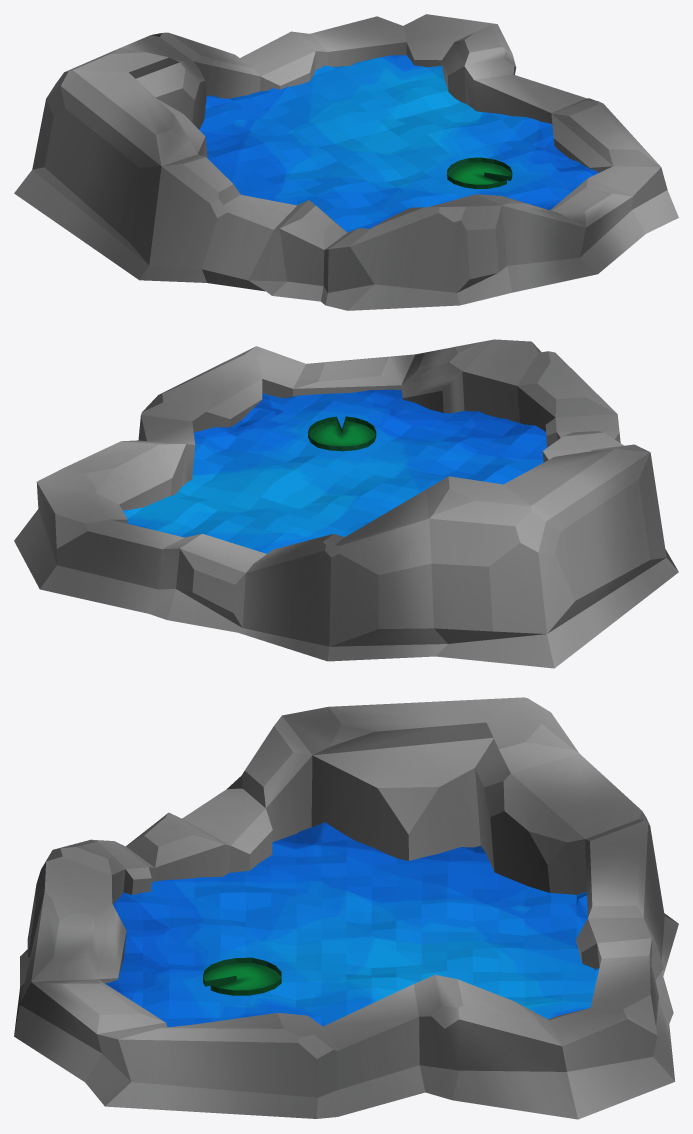
The model's file is Raven_Pond.fbx.
3 views of the same model, one above another, from view 1: azimuth 30°, elevation 25°; view 2: azimuth 150°, elevation 25°; view 3: azimuth 270°, elevation 25° (orthographic). The views are drawn at different scales.
Parts seen in each view (by area): view 1: Cube, Cube.001, Plane; view 2: Cube, Cube.001, Plane; view 3: Cube, Cube.001, Plane.
Boxes of the visible parts, x1,y1,x2,y2 form: Cube: [14, 14, 678, 310]; Cube.001: [199, 55, 598, 232]; Plane: [447, 157, 512, 188]; Cube: [14, 339, 678, 668]; Cube.001: [123, 389, 546, 553]; Plane: [308, 416, 376, 451]; Cube: [14, 697, 678, 1119]; Cube.001: [105, 822, 599, 1027]; Plane: [203, 957, 281, 995].
Bounding box in the file's own units: 274 × 67.18 × 263.
Materials: 1 (1 with a texture image).
